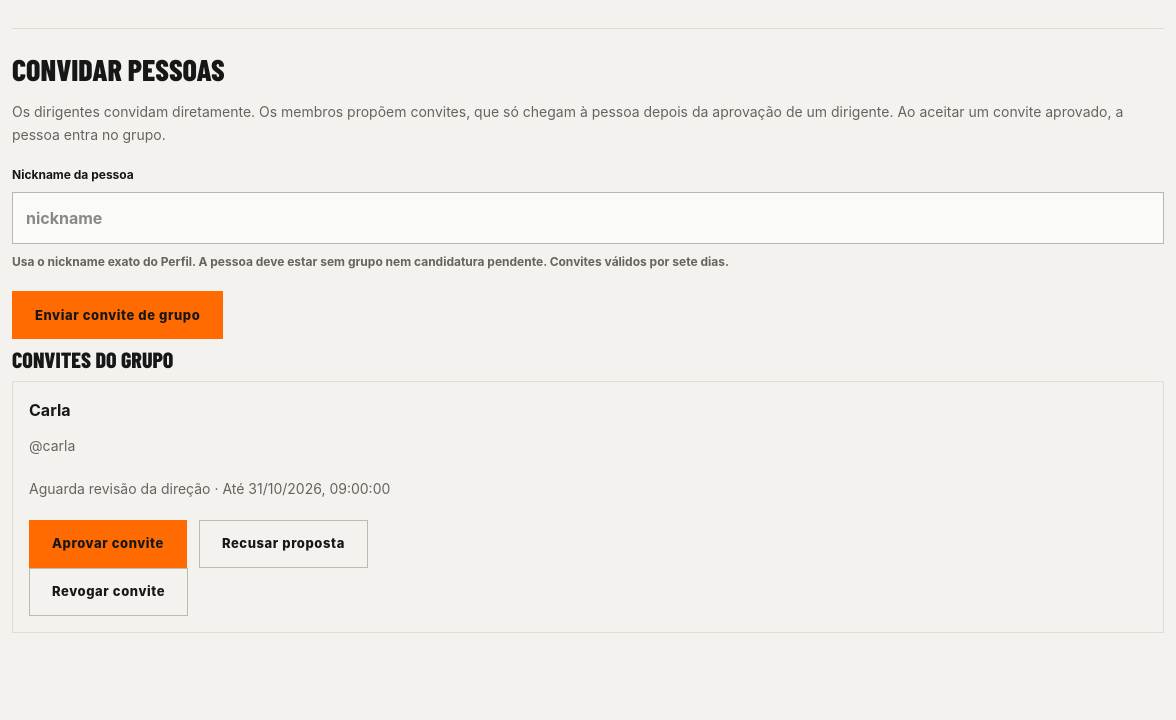
member invitations and leader approval › only leaders can review member proposals in the interface
Step 1. Click the button with aria-label "Aprovar convite para carla" → click(108, 544), box [29,520,187,568]
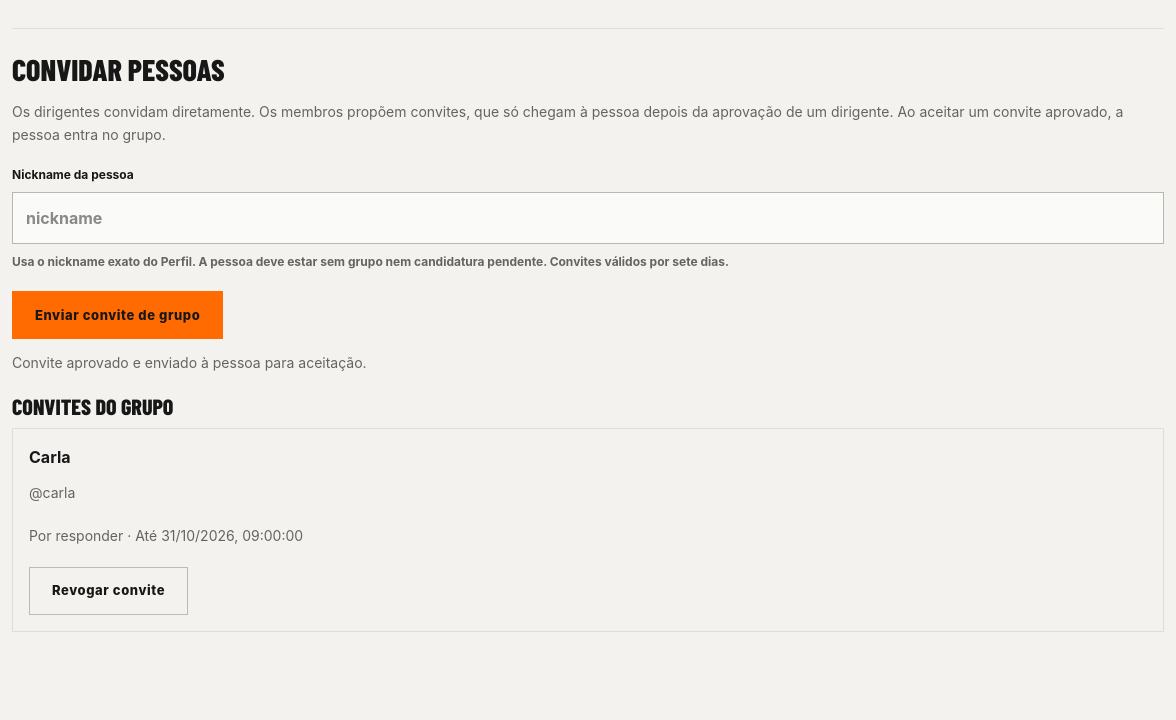
expect the text "Convite aprovado e enviado à pessoa para aceitação." is shown: met, box [12,354,367,371]
